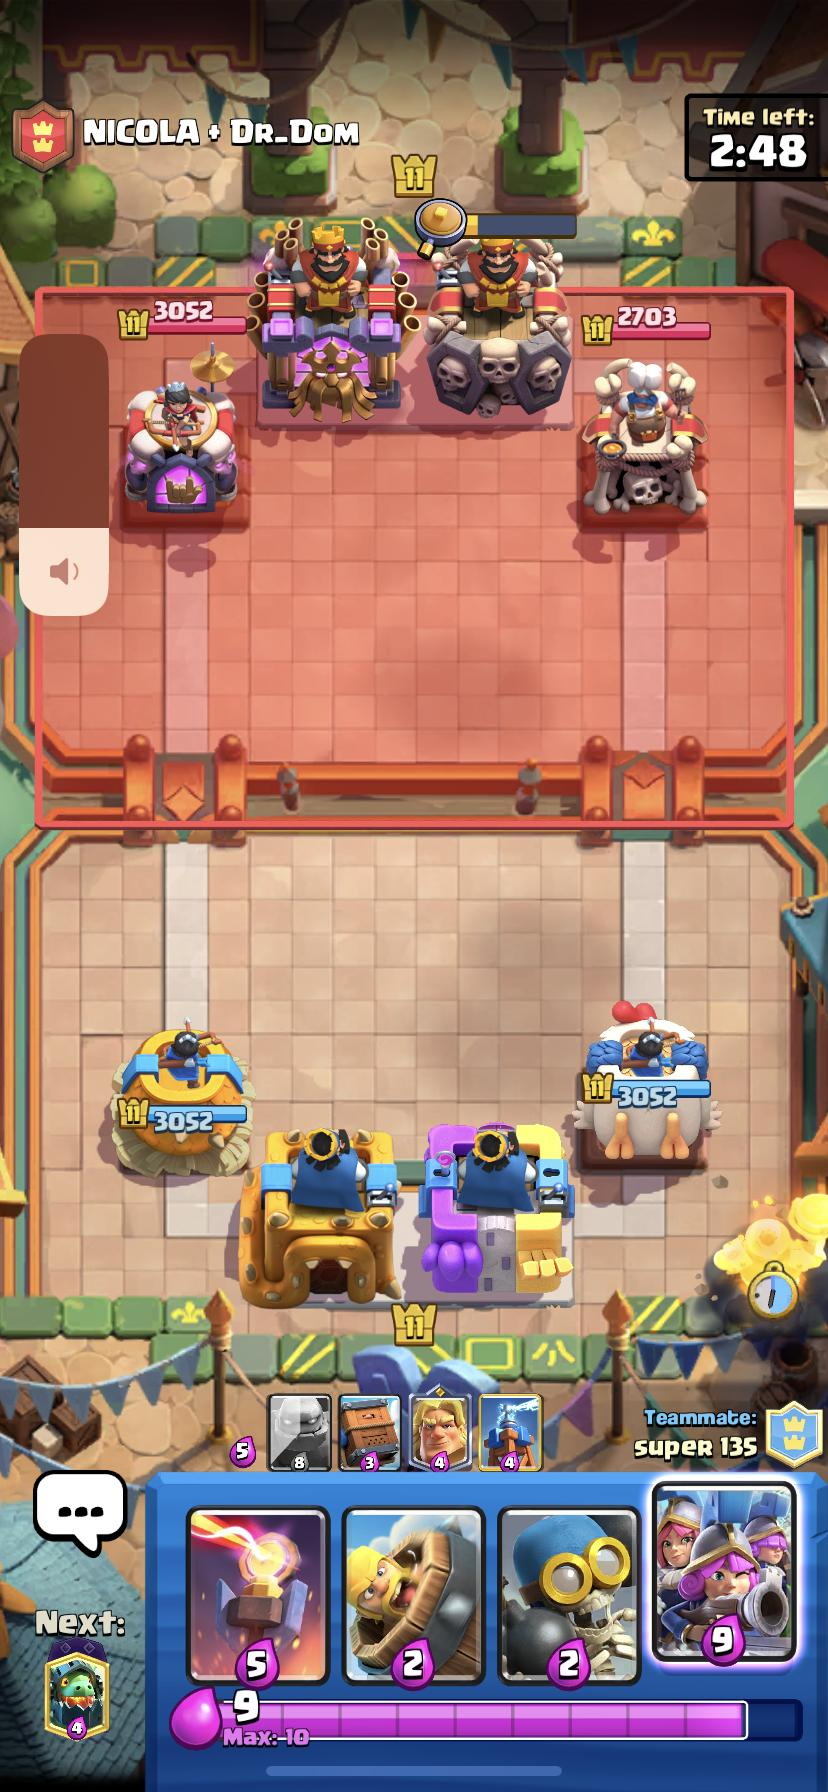EKingTower: (247, 219, 415, 419), (430, 241, 570, 416)
EnemyPanTower: (586, 362, 706, 514)
EnemyPrincessTower: (125, 382, 237, 513)
OFurnace: (714, 1217, 827, 1291)
OwnKingTower: (419, 1123, 573, 1301), (258, 1129, 403, 1305)
OwnPrincessTower: (114, 1027, 253, 1174), (582, 1017, 710, 1161)
